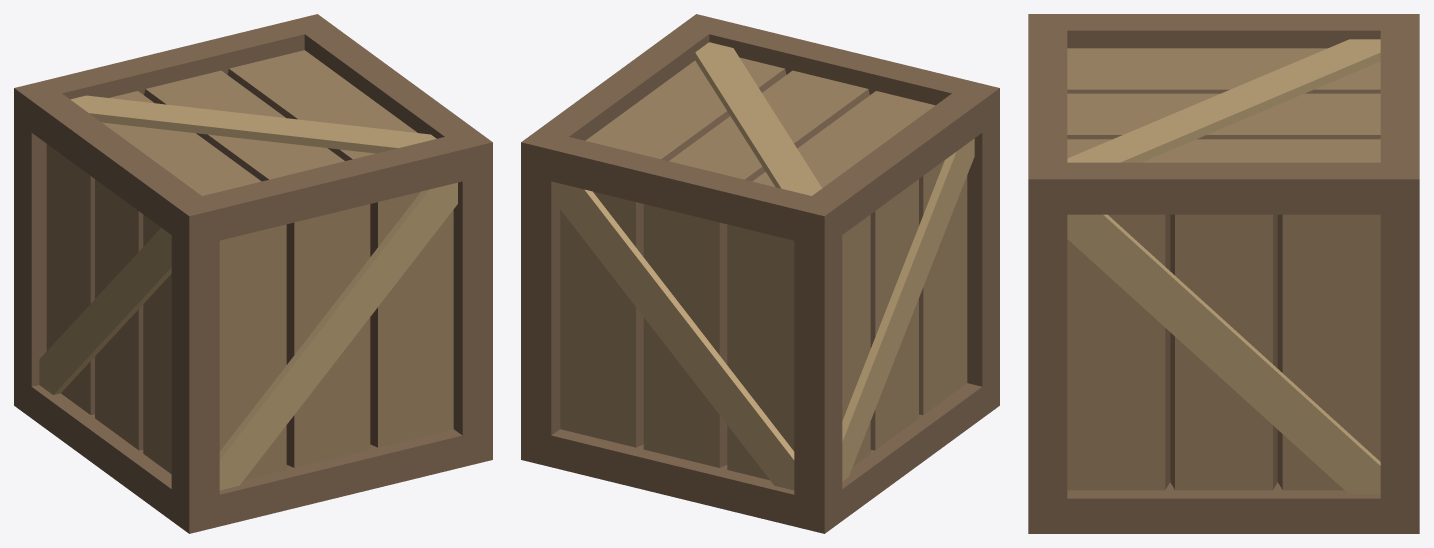
File: Prop_Crate_1.glb
The picture shows the model from 3 angles, left to right: view 1: azimuth 30°, elevation 25°; view 2: azimuth 150°, elevation 25°; view 3: azimuth 270°, elevation 25°; orthographic projection. The views are drawn at different scales.
Visible parts, largest first — view 1: Prop_Crate_1; view 2: Prop_Crate_1; view 3: Prop_Crate_1.
Part boxes in pixels (<box>): Prop_Crate_1: <box>14,14,492,533</box>; Prop_Crate_1: <box>521,14,999,533</box>; Prop_Crate_1: <box>1028,14,1419,533</box>.
Size of the model in its own units: 1 by 1 by 1.
